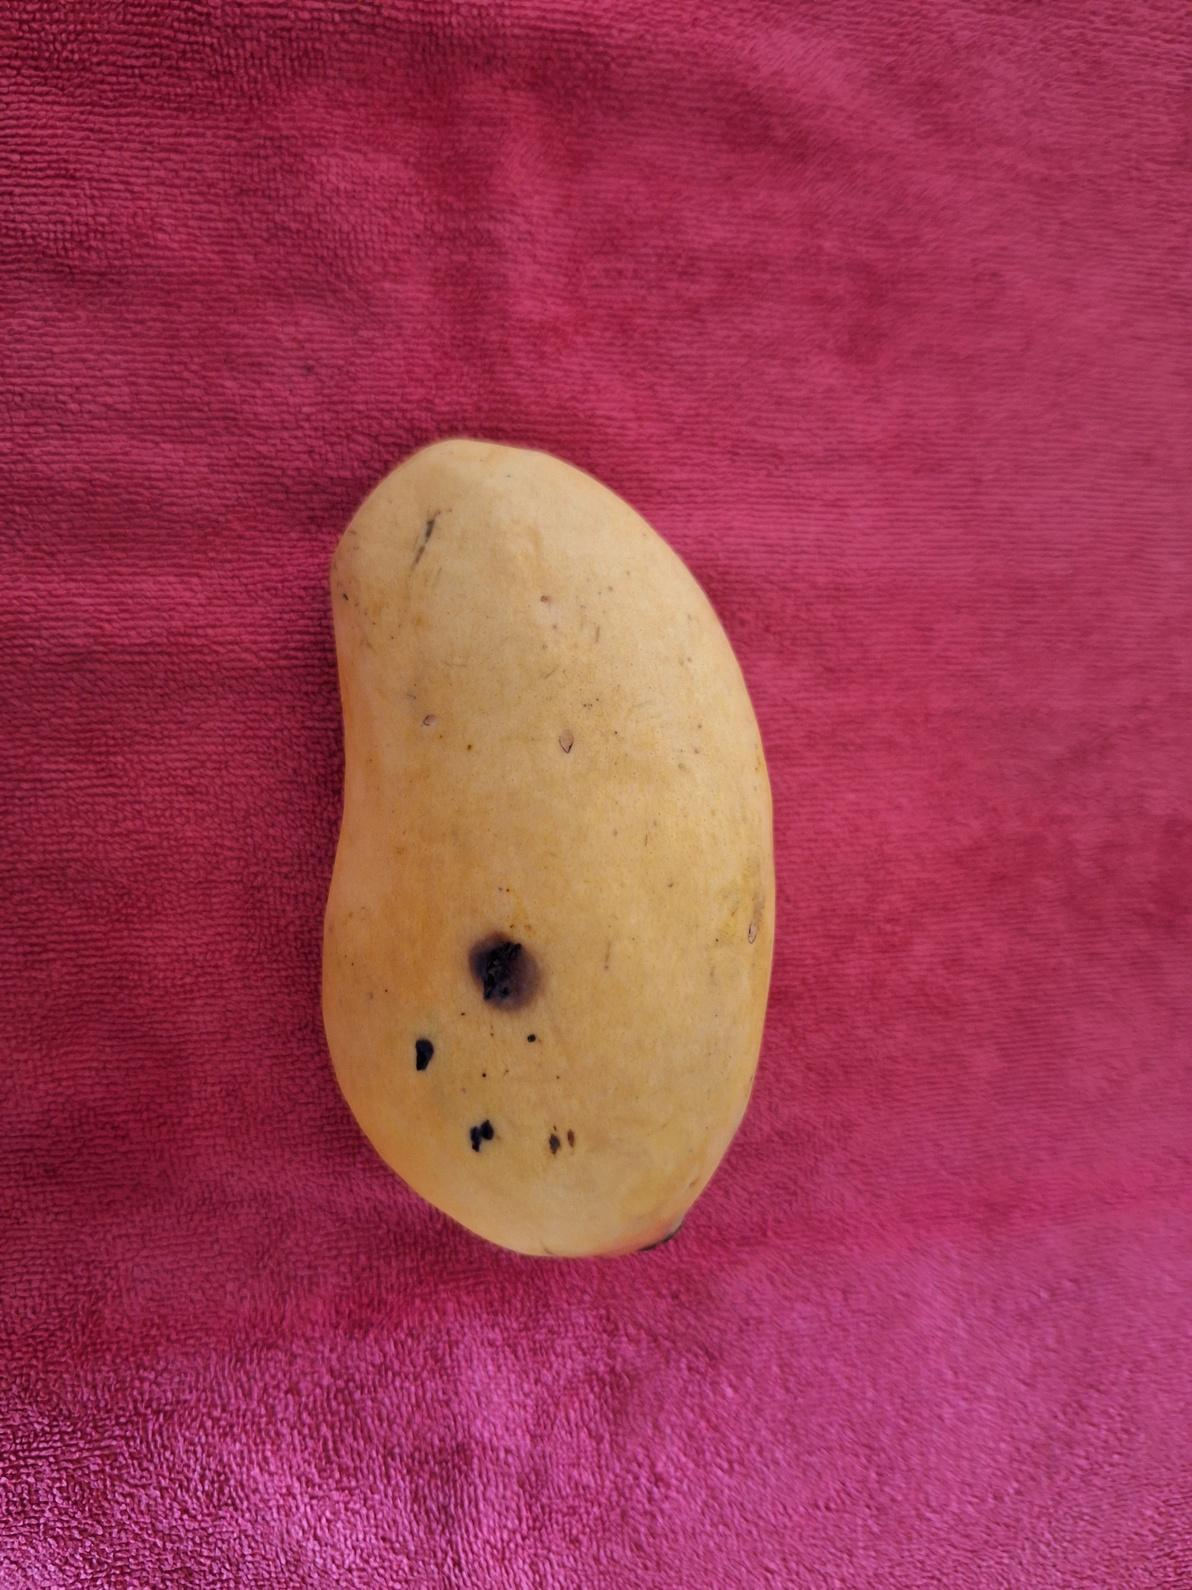mango: (318, 434, 778, 1259)
